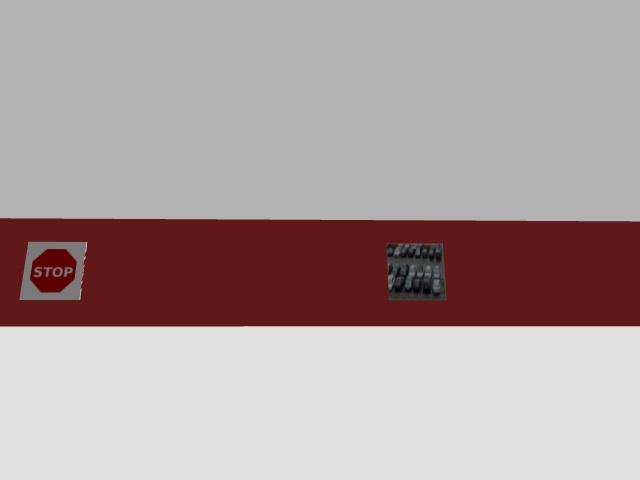stopsign: (21, 242, 86, 300)
vehicle: (394, 276, 404, 291), (432, 279, 441, 295), (422, 278, 430, 293), (400, 244, 409, 257), (413, 278, 421, 292), (399, 264, 408, 276), (433, 266, 441, 279), (404, 277, 412, 290), (388, 275, 394, 291), (424, 265, 431, 278), (407, 247, 415, 258), (391, 264, 399, 275), (408, 245, 415, 257), (435, 246, 441, 260), (422, 244, 428, 258), (428, 246, 434, 259), (393, 246, 400, 257), (409, 265, 416, 276), (417, 265, 423, 277), (415, 245, 421, 257), (400, 248, 407, 257), (387, 247, 393, 256), (389, 243, 397, 249), (386, 243, 394, 249), (396, 243, 403, 249), (422, 243, 428, 249), (388, 264, 391, 273), (386, 243, 390, 248)
